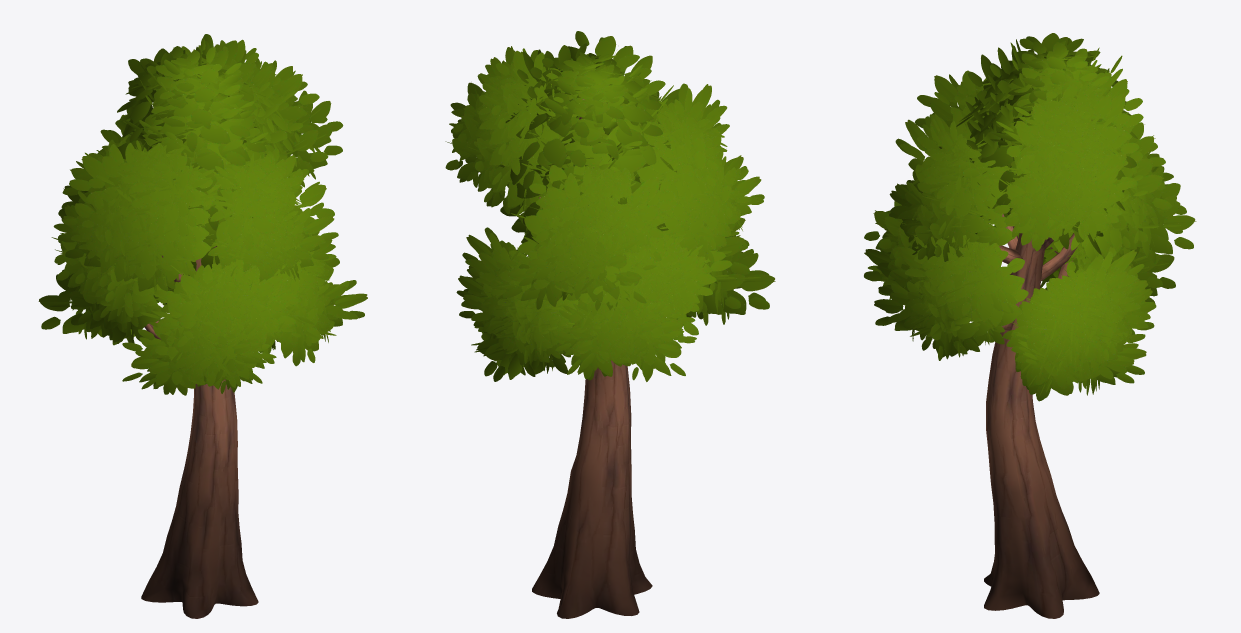
The model's file is tree1.glb.
The picture shows the model from 3 angles, left to right: view 1: azimuth 30°, elevation 25°; view 2: azimuth 150°, elevation 25°; view 3: azimuth 270°, elevation 25°; orthographic projection. The views are drawn at different scales.
Parts seen in each view (by area): view 1: CommonTree_1; view 2: CommonTree_1; view 3: CommonTree_1.
Part boxes in pixels (x1,y1,x2,y2): CommonTree_1: (38, 34, 367, 618); CommonTree_1: (445, 31, 775, 618); CommonTree_1: (864, 33, 1196, 618).
Size of the model in its own units: 4.31 by 7.26 by 4.58.
Materials: 2 (2 with a texture image).
